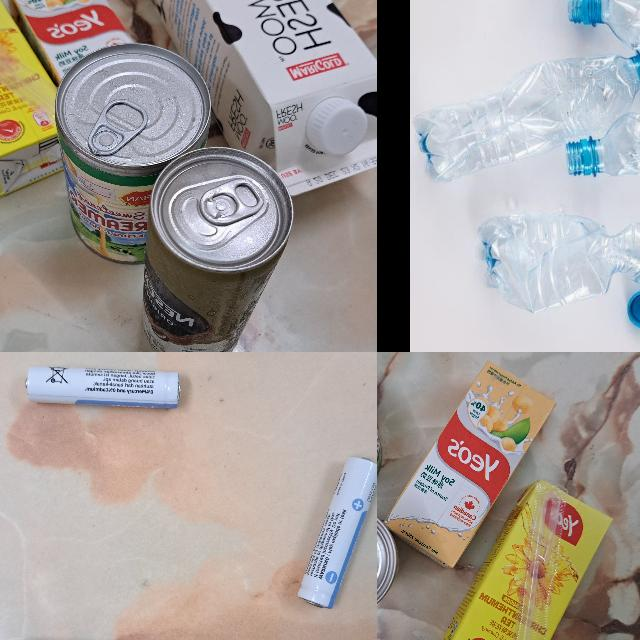aba de lata: (86, 100, 148, 156), (198, 180, 266, 224)
bateria: (296, 456, 377, 608), (22, 364, 184, 410)
caixinha: (130, 0, 377, 197), (386, 360, 556, 568), (439, 476, 611, 640), (0, 0, 67, 194), (2, 0, 131, 86)
garrafa plástica: (409, 46, 640, 181), (476, 218, 640, 313), (564, 51, 640, 175)
lata: (56, 43, 208, 267), (141, 147, 292, 352)
tampa plástica: (627, 289, 640, 326)
